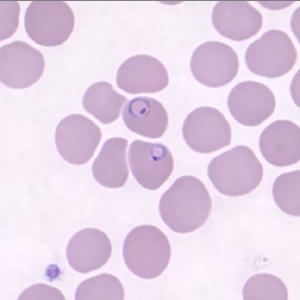Infected: (124, 138, 174, 189), (122, 94, 171, 140)
Uninfected: (159, 174, 213, 232), (207, 146, 264, 195), (122, 225, 170, 279), (244, 29, 297, 76), (55, 113, 101, 166), (189, 40, 238, 89), (24, 0, 74, 46), (182, 106, 232, 151), (0, 42, 45, 91), (116, 53, 168, 95), (66, 226, 112, 273), (213, 0, 264, 42), (228, 81, 276, 125), (90, 136, 129, 189), (258, 119, 300, 167), (83, 81, 127, 123), (241, 271, 288, 300), (272, 169, 300, 217), (75, 274, 123, 300)
